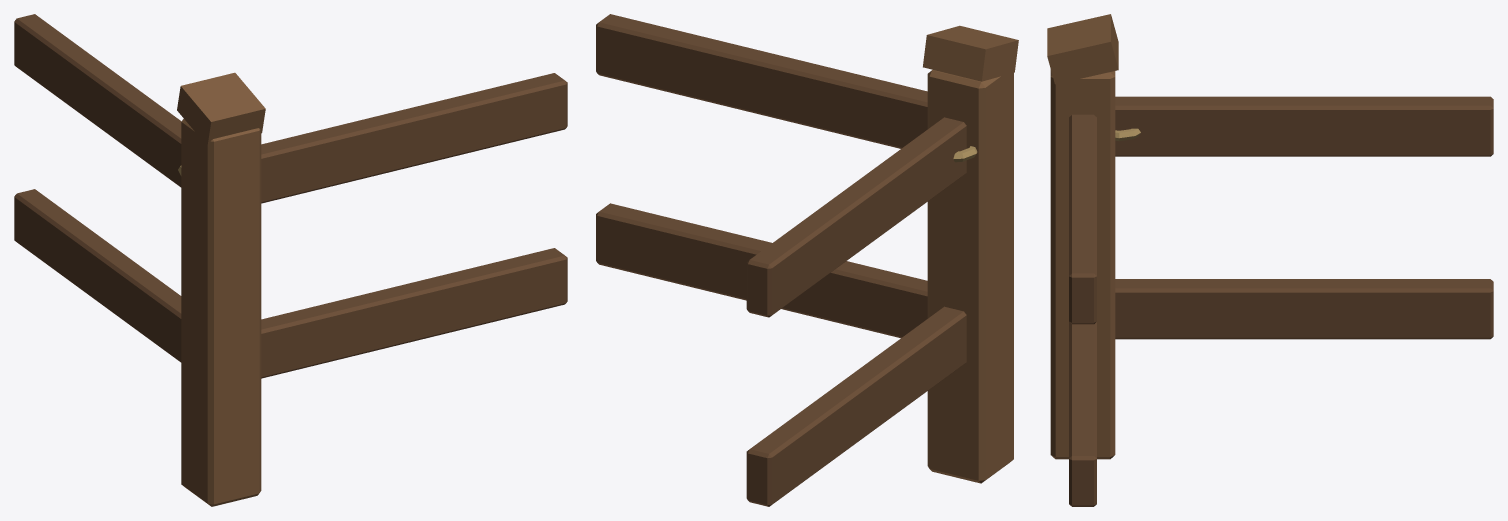
The model's file is SM_Fence_RusticRail_01_Corner.fbx.
3 renders of one model, left to right at view 1: azimuth 30°, elevation 25°; view 2: azimuth 150°, elevation 25°; view 3: azimuth 270°, elevation 25°, orthographic. The views are drawn at different scales.
Visible parts, largest first — view 1: SM_Fence_RusticRail_01_Corner_Post, SM_Fence_RusticRail_01_Corner_RailBotX, SM_Fence_RusticRail_01_Corner_RailTopX, SM_Fence_RusticRail_01_Corner_RailBotY, SM_Fence_RusticRail_01_Corner_RailTopY, SM_Fence_RusticRail_01_Corner_Post_Cap; view 2: SM_Fence_RusticRail_01_Corner_Post, SM_Fence_RusticRail_01_Corner_RailTopX, SM_Fence_RusticRail_01_Corner_RailBotX, SM_Fence_RusticRail_01_Corner_RailBotY, SM_Fence_RusticRail_01_Corner_RailTopY, SM_Fence_RusticRail_01_Corner_Post_Cap; view 3: SM_Fence_RusticRail_01_Corner_RailBotY, SM_Fence_RusticRail_01_Corner_RailTopY, SM_Fence_RusticRail_01_Corner_Post, SM_Fence_RusticRail_01_Corner_RailTopX, SM_Fence_RusticRail_01_Corner_RailBotX, SM_Fence_RusticRail_01_Corner_Post_Cap.
Boxes of the visible parts, x1=… form: SM_Fence_RusticRail_01_Corner_Post: x1=181, y1=119, x2=261, y2=506; SM_Fence_RusticRail_01_Corner_RailBotX: x1=261, y1=248, x2=567, y2=378; SM_Fence_RusticRail_01_Corner_RailTopX: x1=261, y1=73, x2=567, y2=203; SM_Fence_RusticRail_01_Corner_RailBotY: x1=14, y1=189, x2=181, y2=362; SM_Fence_RusticRail_01_Corner_RailTopY: x1=14, y1=14, x2=181, y2=187; SM_Fence_RusticRail_01_Corner_Post_Cap: x1=177, y1=72, x2=265, y2=146; SM_Fence_RusticRail_01_Corner_Post: x1=927, y1=70, x2=1013, y2=483; SM_Fence_RusticRail_01_Corner_RailTopX: x1=596, y1=14, x2=927, y2=148; SM_Fence_RusticRail_01_Corner_RailBotX: x1=596, y1=203, x2=927, y2=338; SM_Fence_RusticRail_01_Corner_RailBotY: x1=746, y1=306, x2=966, y2=506; SM_Fence_RusticRail_01_Corner_RailTopY: x1=746, y1=117, x2=966, y2=317; SM_Fence_RusticRail_01_Corner_Post_Cap: x1=923, y1=25, x2=1018, y2=81; SM_Fence_RusticRail_01_Corner_RailBotY: x1=1115, y1=279, x2=1493, y2=339; SM_Fence_RusticRail_01_Corner_RailTopY: x1=1115, y1=96, x2=1493, y2=156; SM_Fence_RusticRail_01_Corner_Post: x1=1050, y1=69, x2=1115, y2=459; SM_Fence_RusticRail_01_Corner_RailTopX: x1=1069, y1=114, x2=1096, y2=324; SM_Fence_RusticRail_01_Corner_RailBotX: x1=1069, y1=322, x2=1096, y2=506; SM_Fence_RusticRail_01_Corner_Post_Cap: x1=1047, y1=14, x2=1118, y2=84.
Size of the model in its own units: 1.1 by 1.15 by 1.11.
